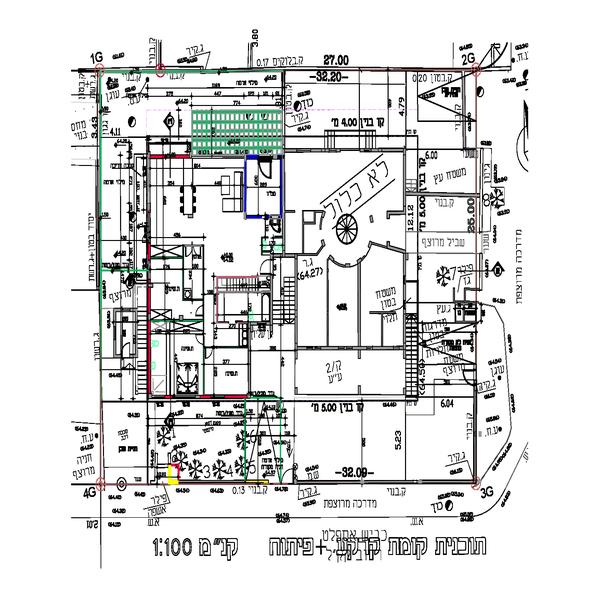room: (279, 147, 426, 404), (144, 275, 287, 401), (141, 149, 284, 265)
